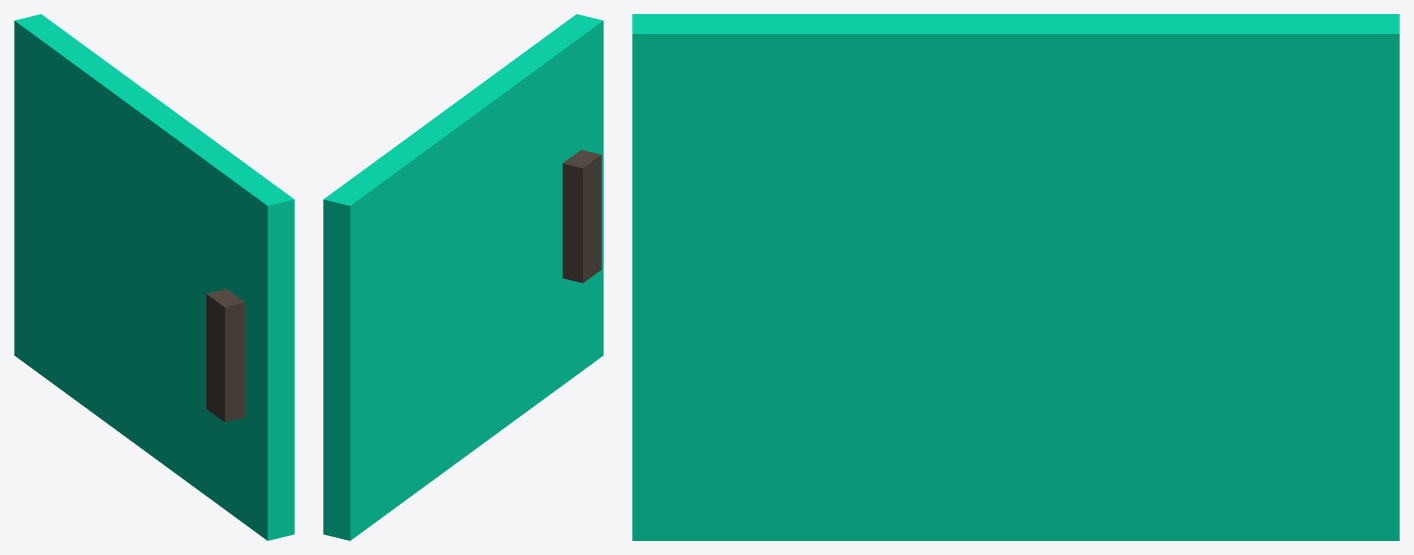
The model's file is tv meubel deur 1.fbx.
The picture shows the model from 3 angles, left to right: view 1: azimuth 30°, elevation 25°; view 2: azimuth 150°, elevation 25°; view 3: azimuth 270°, elevation 25°; orthographic projection. The views are drawn at different scales.
Parts seen in each view (by area): view 1: tv meubel deur; view 2: tv meubel deur; view 3: tv meubel deur.
Boxes of the visible parts, <box> form: tv meubel deur: <box>14,14,294,540</box>; tv meubel deur: <box>323,14,603,540</box>; tv meubel deur: <box>632,14,1399,540</box>.
Size of the model in its own units: 904 by 6108 by 8373.
